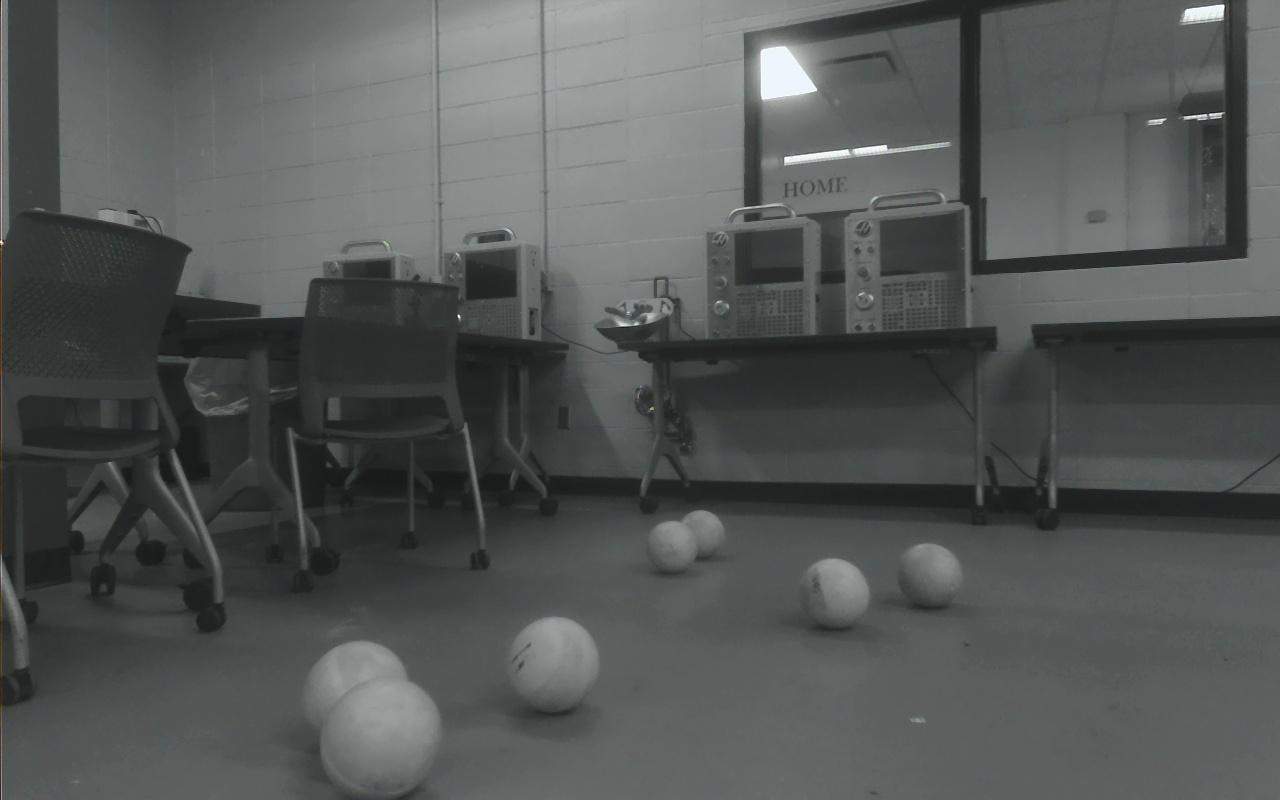Fuel: (320, 676, 443, 799), (301, 639, 411, 742), (507, 616, 600, 714), (801, 558, 870, 629), (897, 542, 964, 609), (646, 520, 698, 574), (680, 509, 726, 559)
